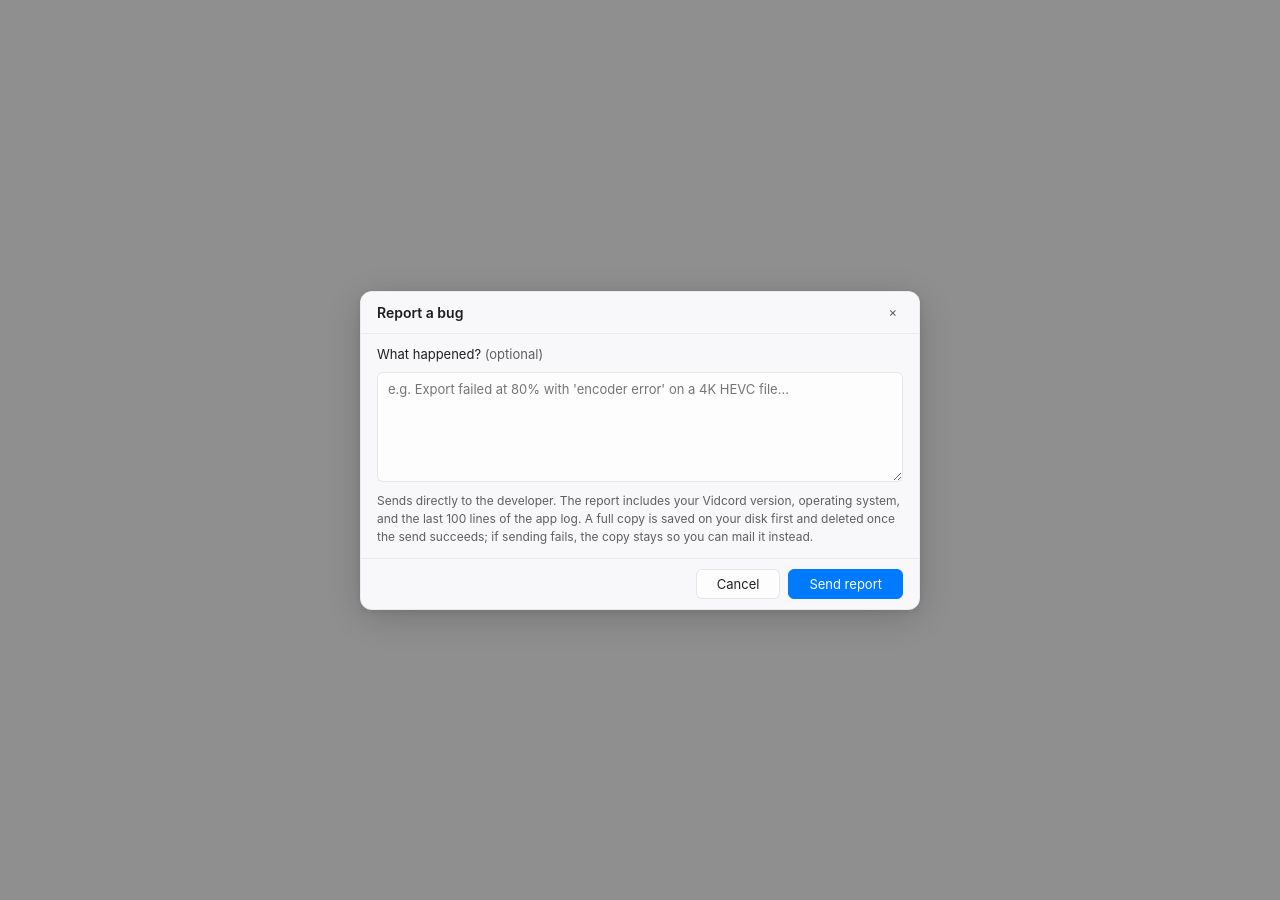
Test: falls back to the mail app when the endpoint fails
The width and height of the screenshot is (1280, 900).
Click the button "Send report" at point(846, 584), box [788,568,903,598]
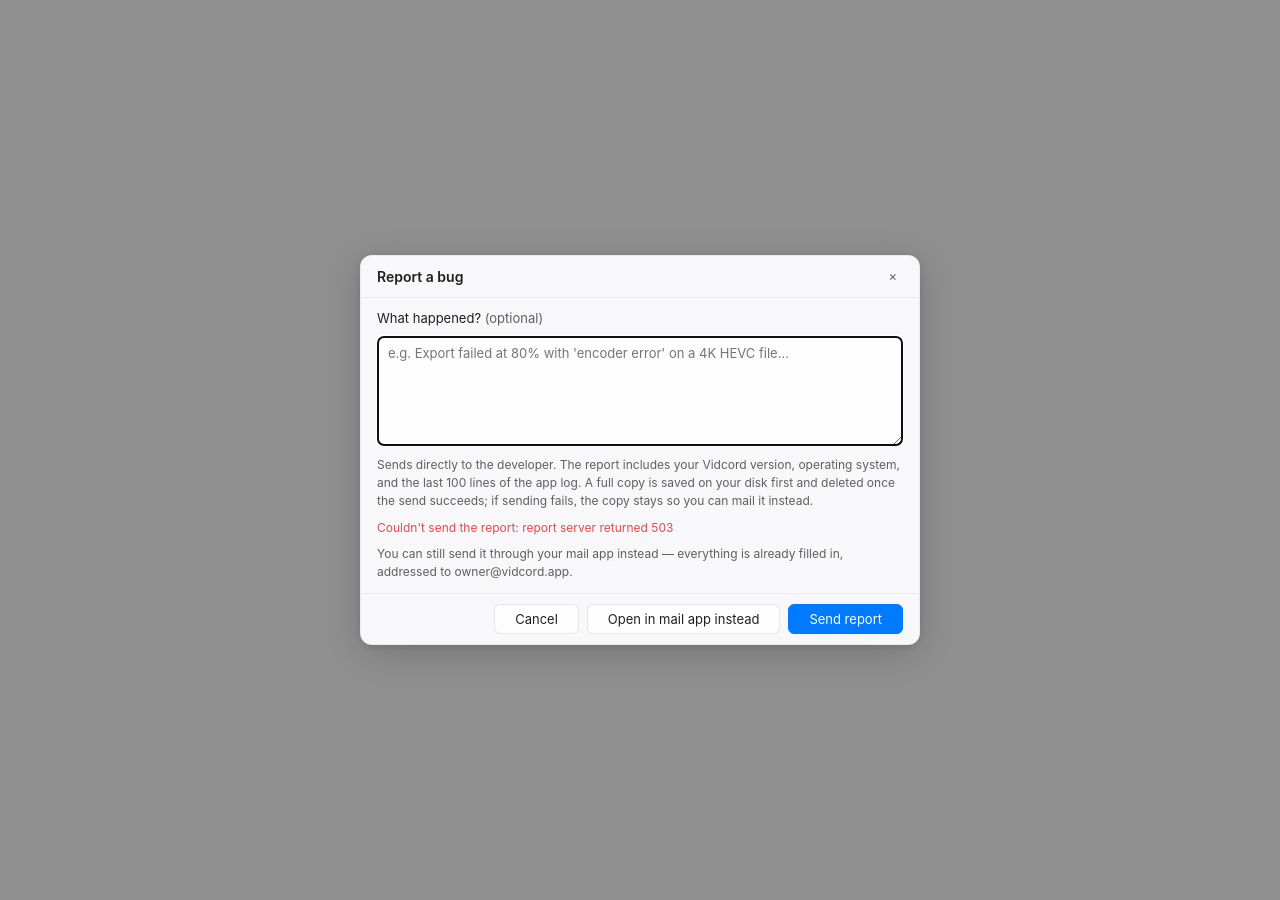
Now the message "Couldn't send the report: report server returned 503" is shown, box [377,520,673,535]
Click the button "Open in mail app instead" at point(684, 619), box [587,604,780,634]
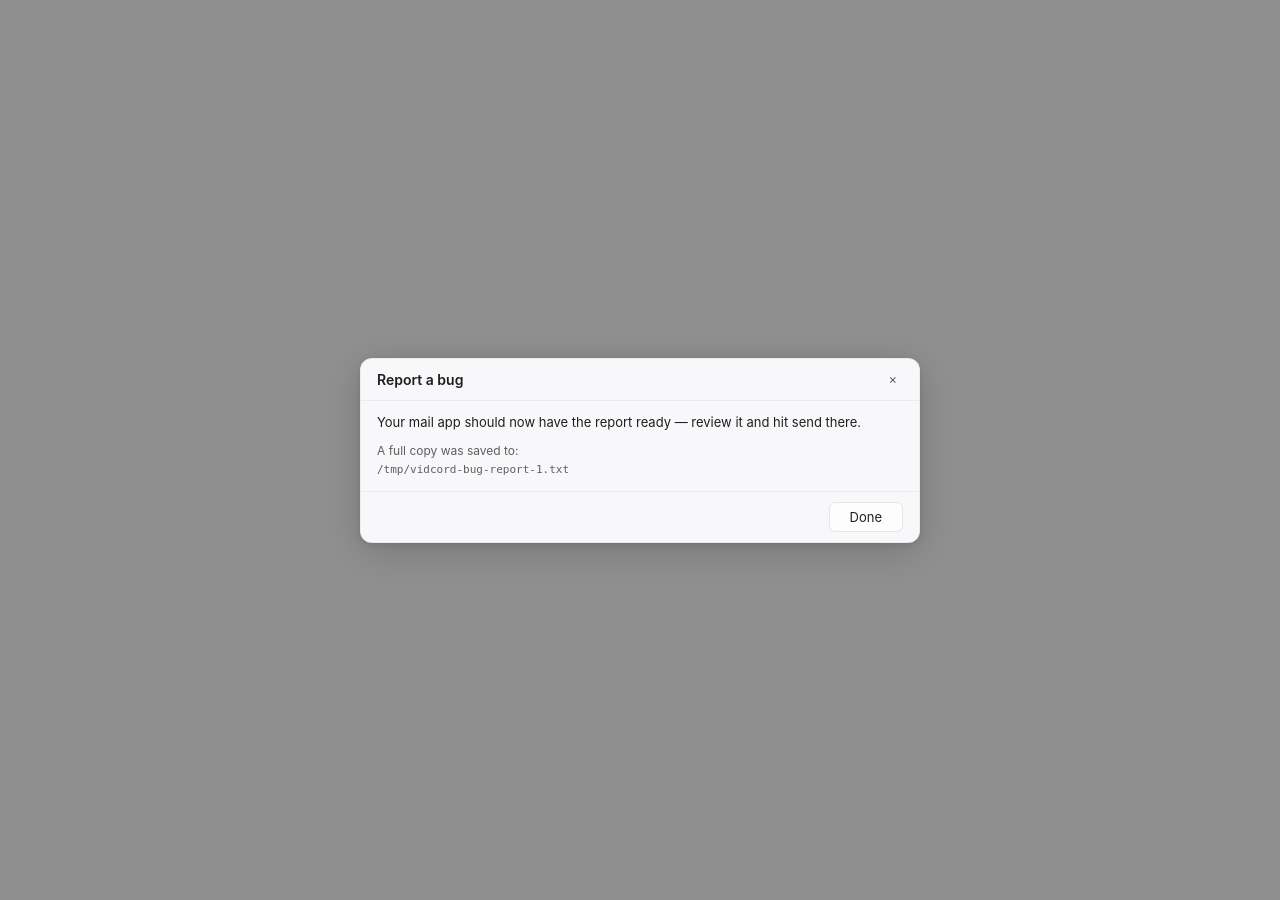
Now the text "/tmp/vidcord-bug-report-1.txt" is shown, box [377,463,569,476]
